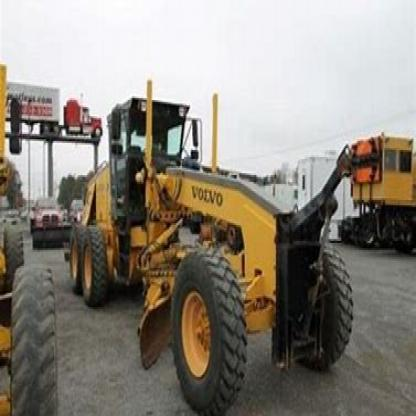bull_dozer/loader/grader: (57, 78, 360, 409)
